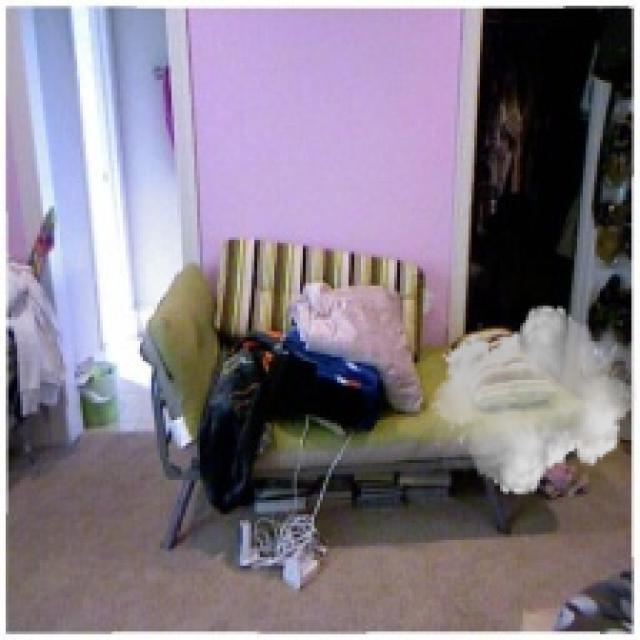Smoke: (428, 297, 638, 503)
